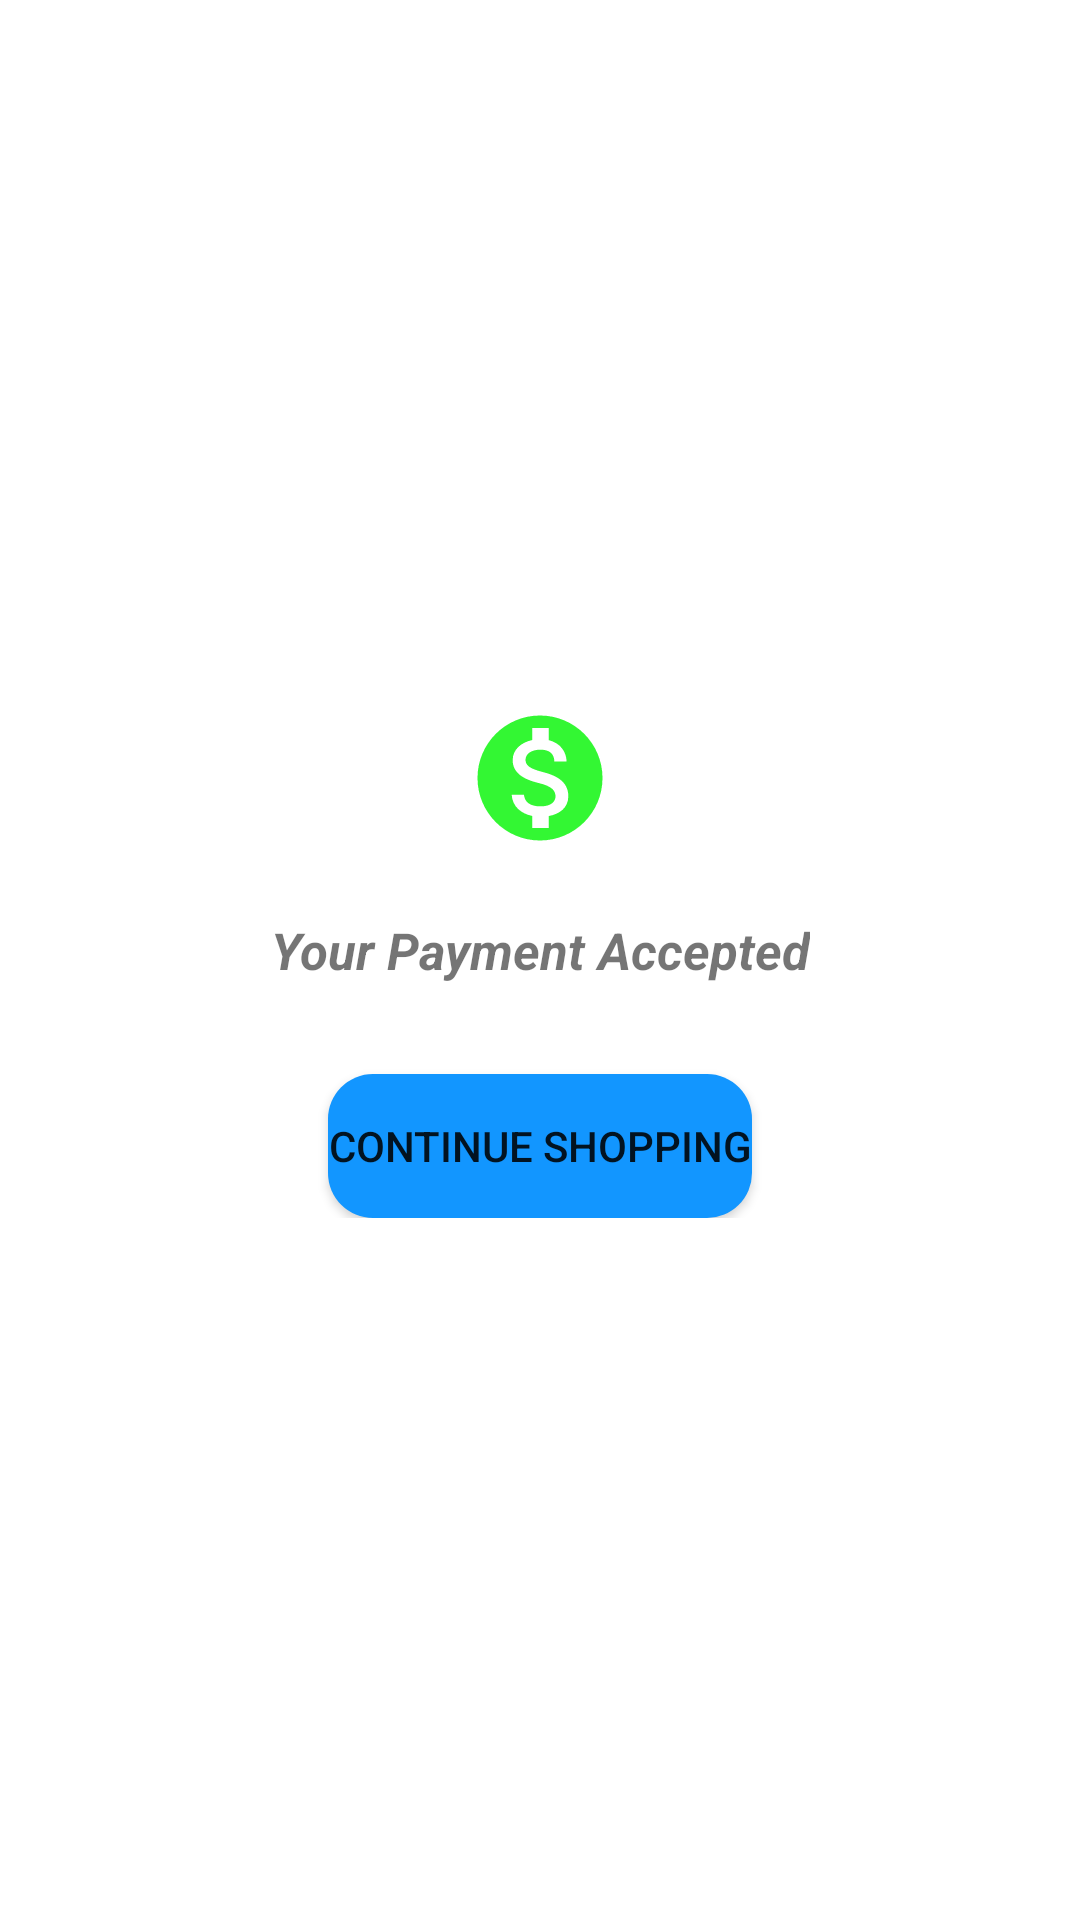

Screen size 1080*1920. Icon name, then its center in pixels as (x=x, y=y):
money: (x=540, y=778)
